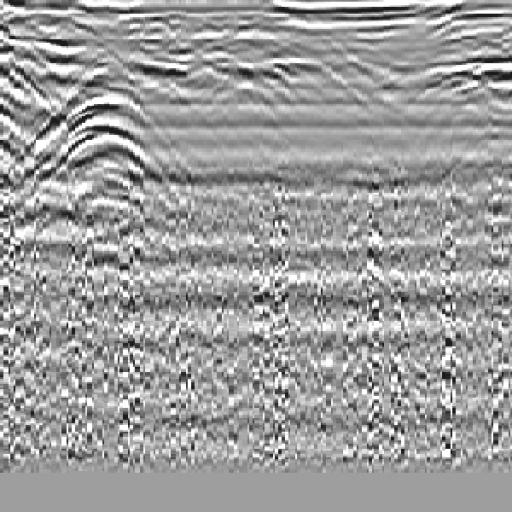metalic: (14, 80, 189, 242)
